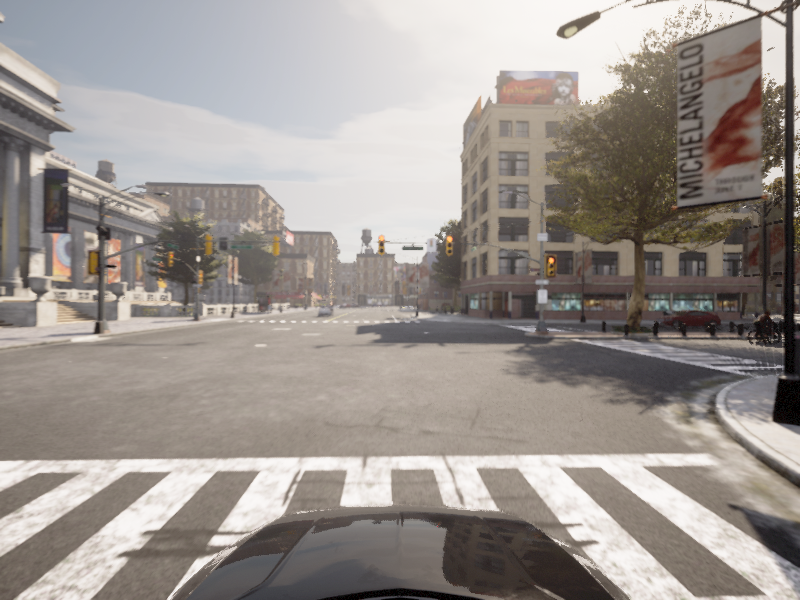vehicle: (650, 309, 725, 329), (742, 310, 786, 344)
